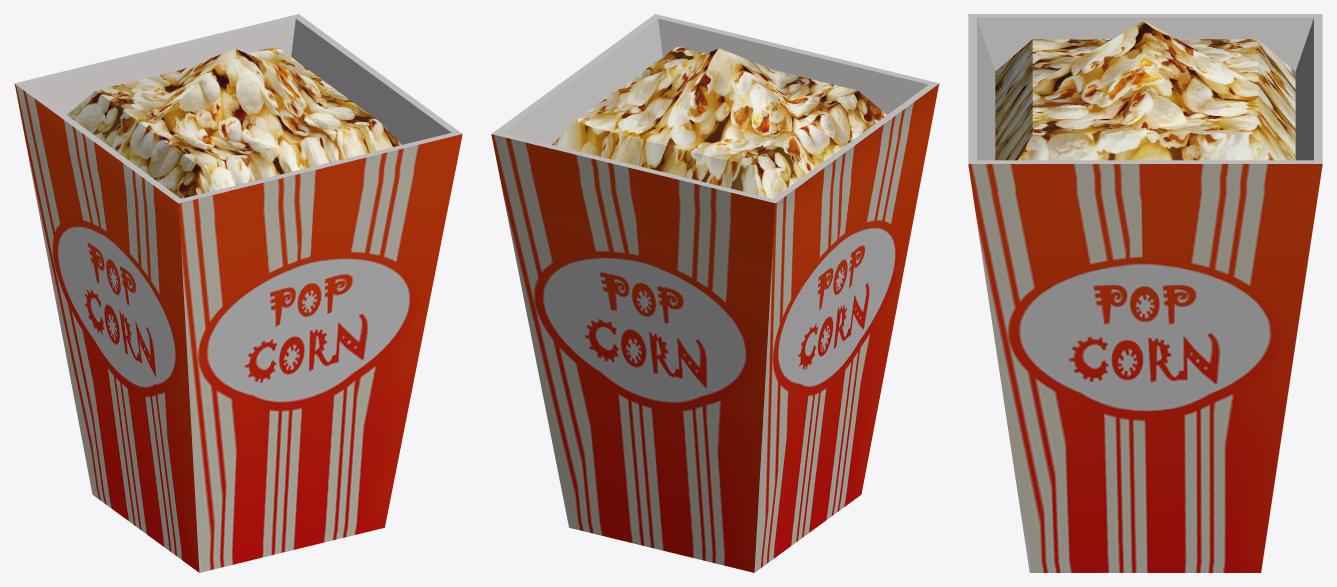
The model's file is popcorn box.FBX.
3 renders of one model, left to right at view 1: azimuth 30°, elevation 25°; view 2: azimuth 150°, elevation 25°; view 3: azimuth 270°, elevation 25°, orthographic. The views are drawn at different scales.
Parts seen in each view (by area): view 1: Box001; view 2: Box001; view 3: Box001.
Part boxes in pixels (<box>): Box001: <box>14,14,462,572</box>; Box001: <box>491,14,939,572</box>; Box001: <box>968,14,1322,572</box>.
Bounding box in the file's own units: 74.42 × 116 × 74.33.
Materials: 4 (2 with a texture image).
